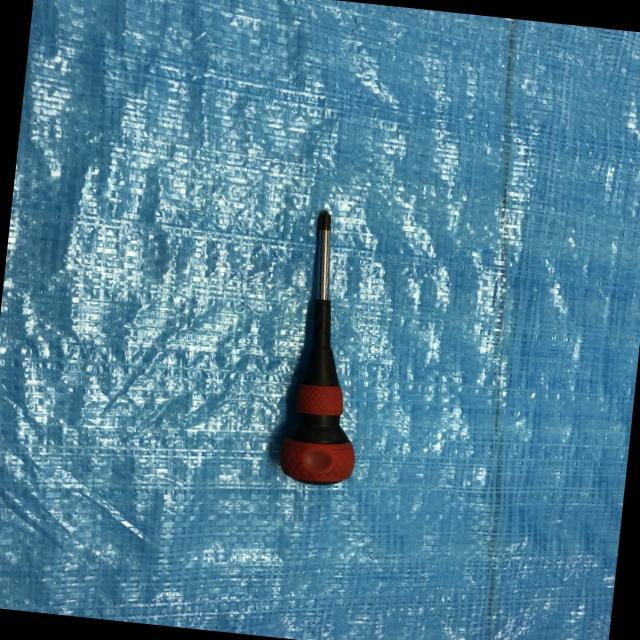screwdriver: (268, 205, 384, 492)
